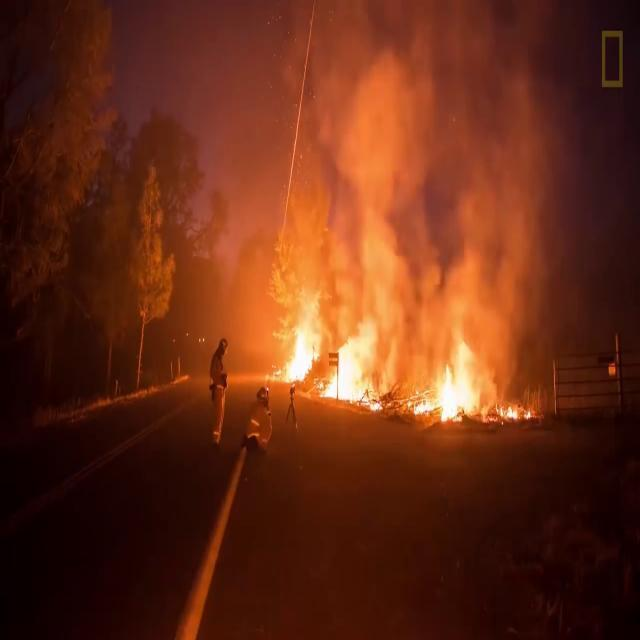Fire: (319, 316, 385, 412), (412, 333, 477, 425), (276, 315, 314, 383), (500, 398, 532, 421)
Smoke: (266, 12, 566, 390)
